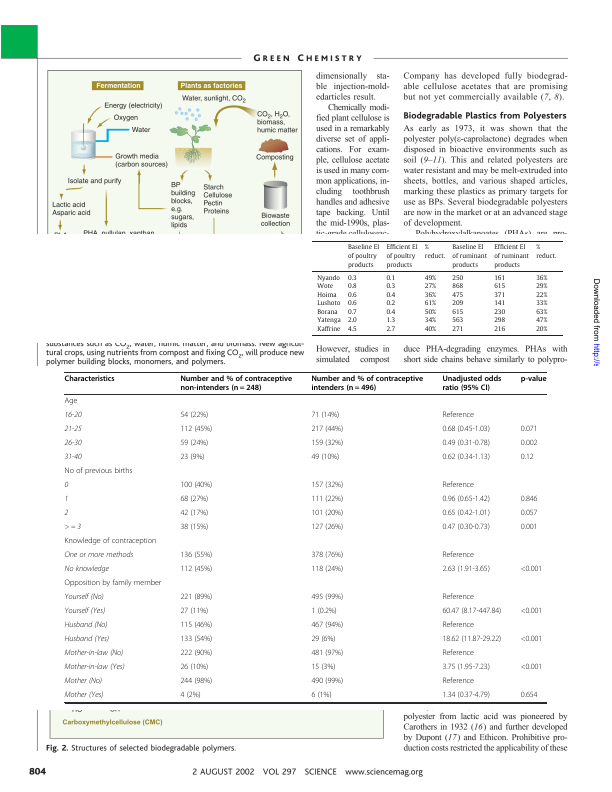borderless: (63, 371, 546, 702), (311, 239, 563, 335)
cell: (179, 375, 293, 393), (310, 375, 424, 393), (441, 375, 502, 393), (64, 579, 162, 589), (64, 537, 157, 547), (451, 244, 488, 269), (493, 244, 530, 269), (347, 244, 380, 269), (386, 244, 419, 269), (64, 467, 133, 477), (64, 551, 134, 560), (441, 607, 502, 617), (441, 635, 502, 645), (64, 663, 126, 672), (64, 649, 124, 658), (441, 425, 491, 435), (441, 439, 491, 449), (441, 453, 491, 463), (441, 495, 491, 505), (441, 509, 491, 519), (441, 523, 491, 533), (441, 565, 491, 575), (441, 663, 491, 673), (441, 691, 491, 701), (64, 375, 116, 384), (64, 565, 110, 575), (64, 635, 110, 644), (64, 621, 108, 630), (64, 607, 106, 616), (64, 593, 105, 602), (535, 244, 558, 260), (64, 691, 104, 700), (424, 244, 446, 260), (64, 677, 103, 686), (441, 411, 475, 421), (179, 425, 213, 435), (310, 425, 344, 435), (310, 439, 344, 449), (179, 481, 213, 491), (310, 481, 344, 491), (441, 481, 475, 491), (310, 495, 344, 505), (310, 509, 344, 519), (310, 523, 344, 533), (179, 551, 213, 561), (310, 551, 344, 561), (441, 551, 475, 561), (179, 565, 213, 575), (310, 565, 344, 575), (179, 593, 213, 603), (310, 593, 344, 603), (441, 593, 475, 603), (179, 621, 213, 631), (310, 621, 344, 631), (441, 621, 475, 631), (179, 635, 213, 645), (179, 649, 213, 659), (310, 649, 344, 659), (441, 649, 475, 659), (179, 677, 213, 687), (310, 677, 344, 687), (441, 677, 475, 687), (179, 411, 209, 421), (310, 411, 340, 421), (179, 439, 209, 449), (310, 453, 340, 463), (179, 495, 209, 505), (179, 509, 209, 519), (179, 523, 209, 533), (179, 607, 209, 617), (179, 663, 209, 673), (310, 607, 338, 617), (179, 453, 205, 463), (310, 635, 336, 645), (310, 663, 336, 673), (520, 375, 547, 384), (316, 325, 342, 334), (520, 565, 543, 575), (520, 607, 543, 617), (520, 635, 543, 645), (520, 663, 543, 673), (316, 299, 341, 308), (179, 691, 201, 701), (310, 691, 332, 701), (316, 317, 342, 325), (316, 274, 341, 282), (316, 308, 339, 316), (520, 425, 538, 435), (520, 439, 538, 449), (520, 495, 538, 505), (520, 509, 538, 519), (520, 523, 538, 533), (520, 691, 538, 701), (316, 291, 338, 299), (316, 282, 334, 291), (64, 411, 82, 420), (64, 425, 82, 434), (64, 439, 82, 448), (64, 453, 82, 462), (64, 523, 82, 532), (520, 453, 535, 463), (64, 397, 78, 407), (424, 282, 437, 291), (451, 282, 464, 291), (493, 282, 506, 291), (535, 282, 548, 291), (424, 299, 437, 308), (451, 299, 464, 308), (493, 299, 506, 308), (535, 299, 548, 308), (424, 325, 437, 334), (451, 325, 464, 334), (493, 325, 506, 334), (535, 325, 548, 334), (424, 274, 437, 282), (451, 274, 464, 282), (493, 274, 506, 282), (535, 274, 548, 282), (424, 291, 437, 299), (451, 291, 464, 299), (493, 291, 506, 299), (535, 291, 548, 299), (424, 308, 437, 316), (451, 308, 464, 316), (493, 308, 506, 316), (535, 308, 548, 316), (424, 317, 437, 325), (451, 317, 464, 325), (493, 317, 506, 325), (535, 317, 548, 325), (347, 282, 358, 291), (347, 299, 358, 308), (347, 325, 358, 334), (386, 282, 396, 291), (386, 299, 396, 308), (386, 325, 396, 334), (347, 274, 358, 282), (347, 291, 358, 299), (347, 308, 358, 316), (347, 317, 358, 325), (386, 274, 396, 282), (386, 291, 396, 299), (386, 308, 396, 316), (386, 317, 396, 325), (64, 481, 69, 490), (64, 495, 69, 504), (64, 509, 69, 518)
